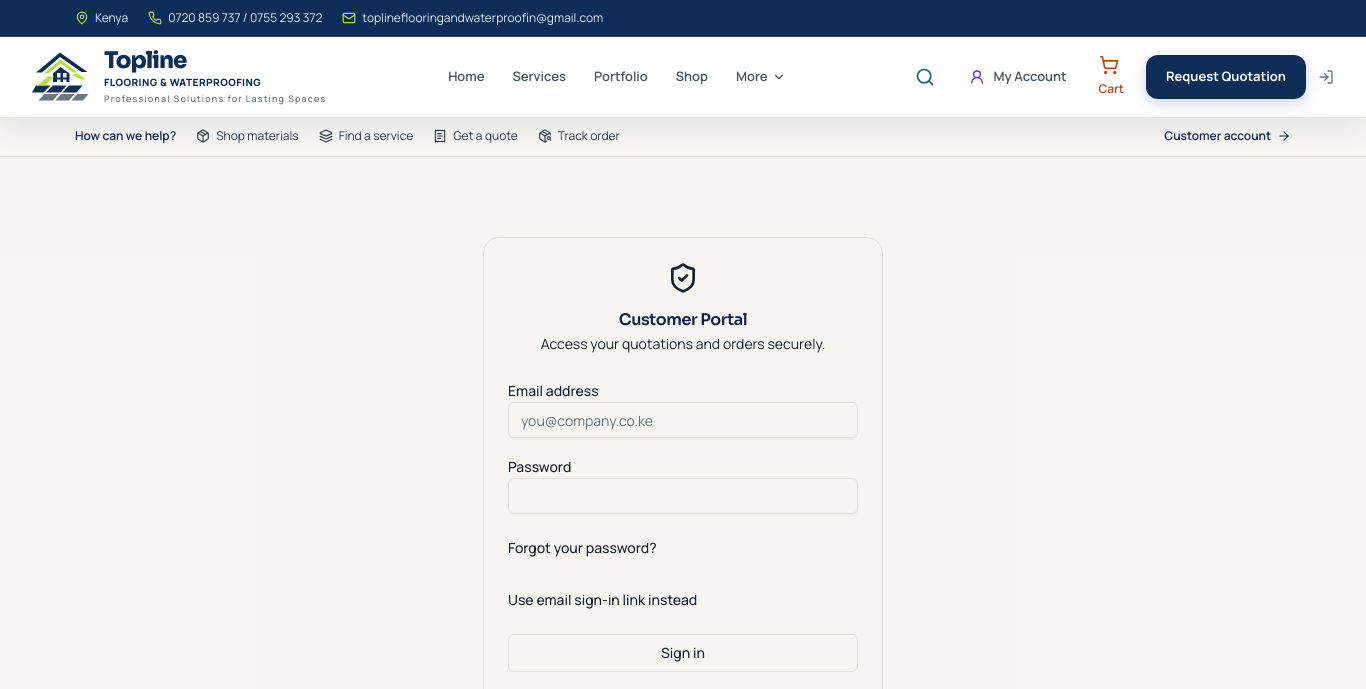
Scenario: customer password recovery and email-link problems › requests a reset link and answers neutrally, with the portal as the redirect
Click the button "Forgot your password?". click: click(582, 548)
box: [508,530,657,566]
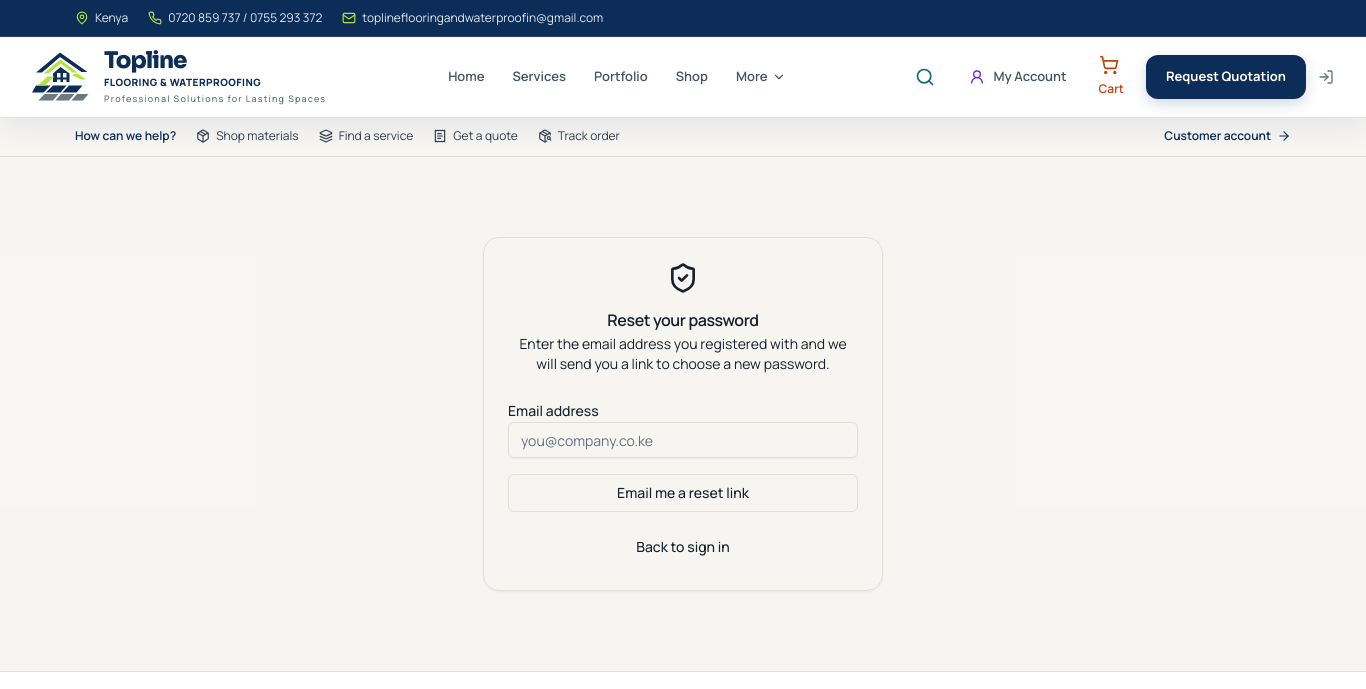
Type "Amina@Example.org" into the field labelled "Email address". click: (683, 440)
box: [508,422,858,458]
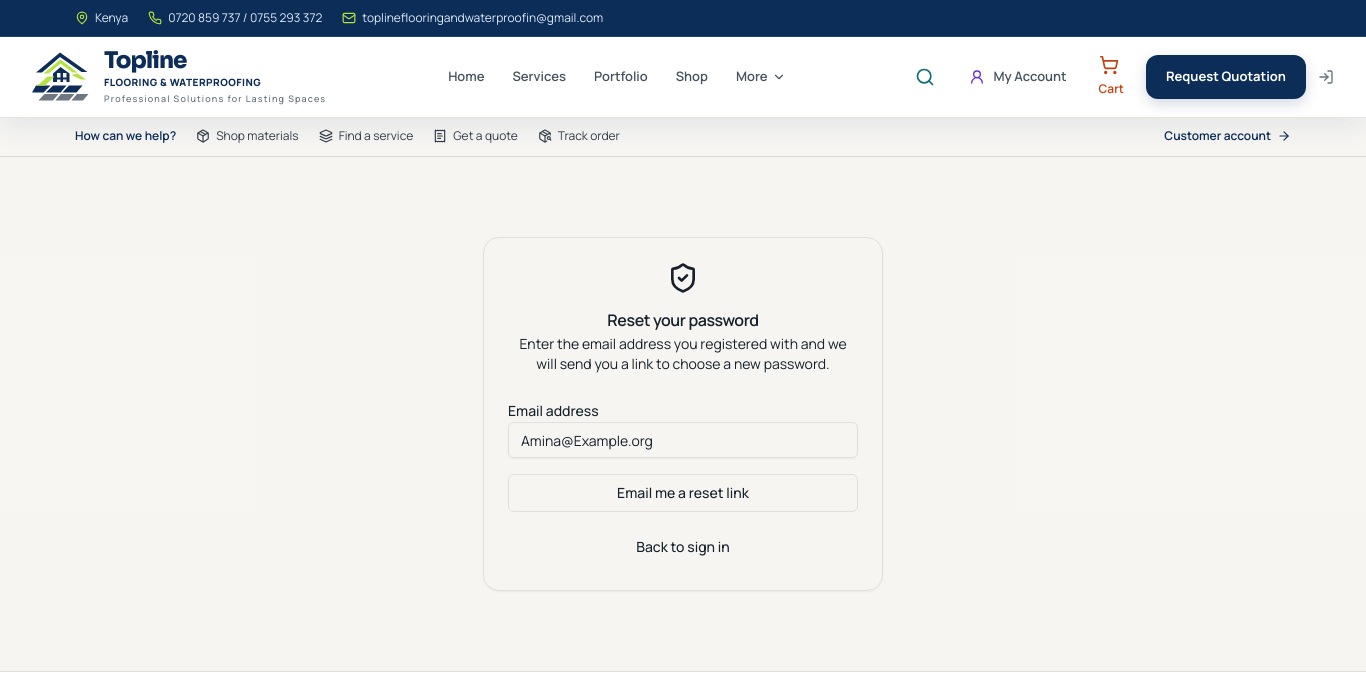
Click the button "Email me a reset link". click: click(683, 493)
box: [508,474,858,512]
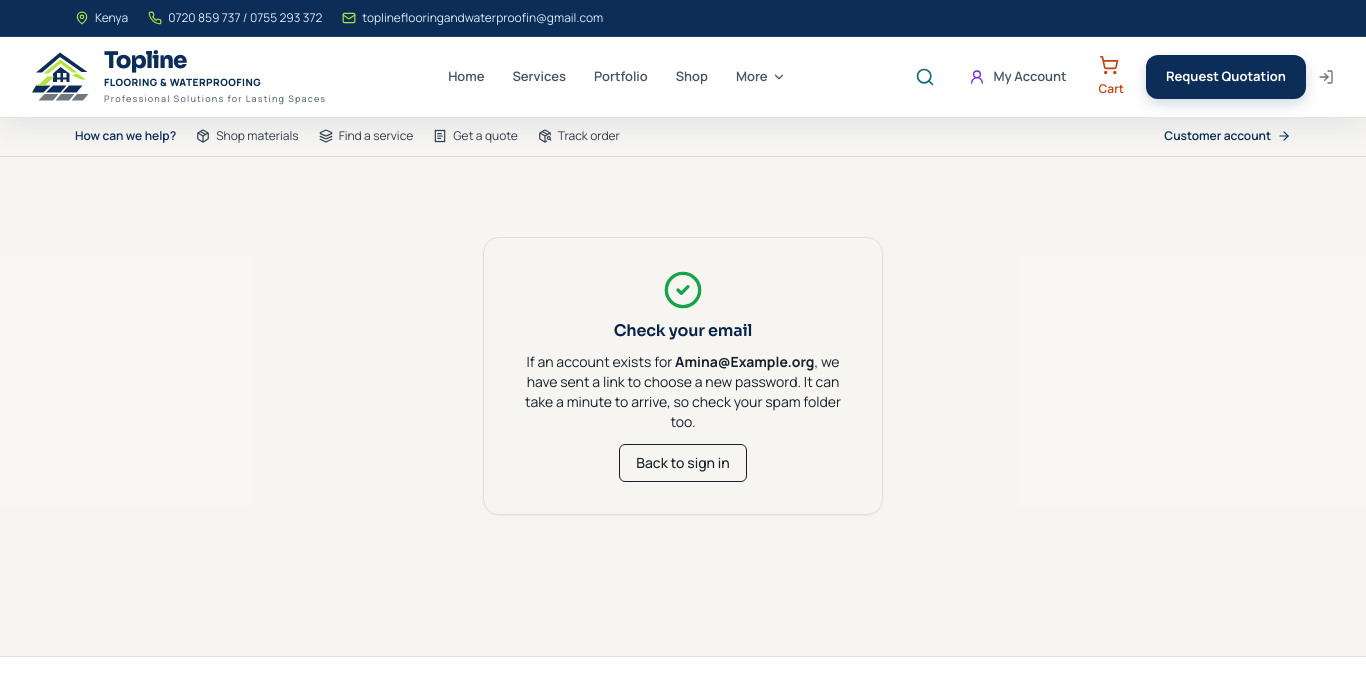
Result: the text "If an account exists for" is shown at [526,352,675,371]
Result: the text "Amina@Example.org" is shown at [675,352,814,371]
